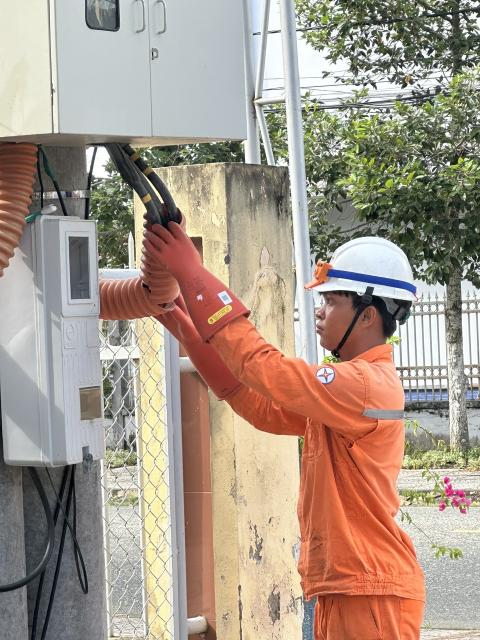gloves: (144, 281, 259, 408), (145, 209, 256, 331)
helmet: (295, 233, 432, 308)
